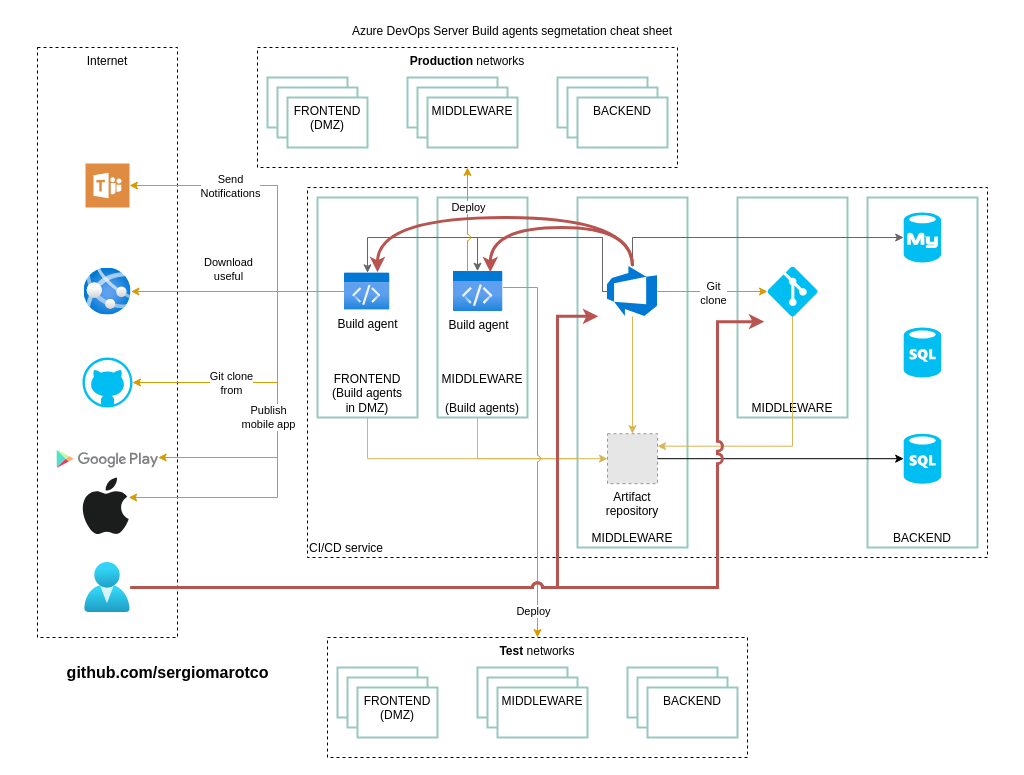
The diagram is 1024 pixels wide and 775 high, and some of its shapes have lost their labels. Grey dashed boxes stand in for pictures. Here are the shapes that lost their labels. From the top down, the centre of each, then its label:
At [107,185]: "Teams".
At [922,237]: "Azure DevOps Server DB".
At [107,291]: "Pub services".
At [632,291]: "Azure DevOps Server".
At [792,291]: "Other Git server".
At [107,382]: "Github.com".
At [104,505]: "AppStore".
At [107,587]: "Contractor".
